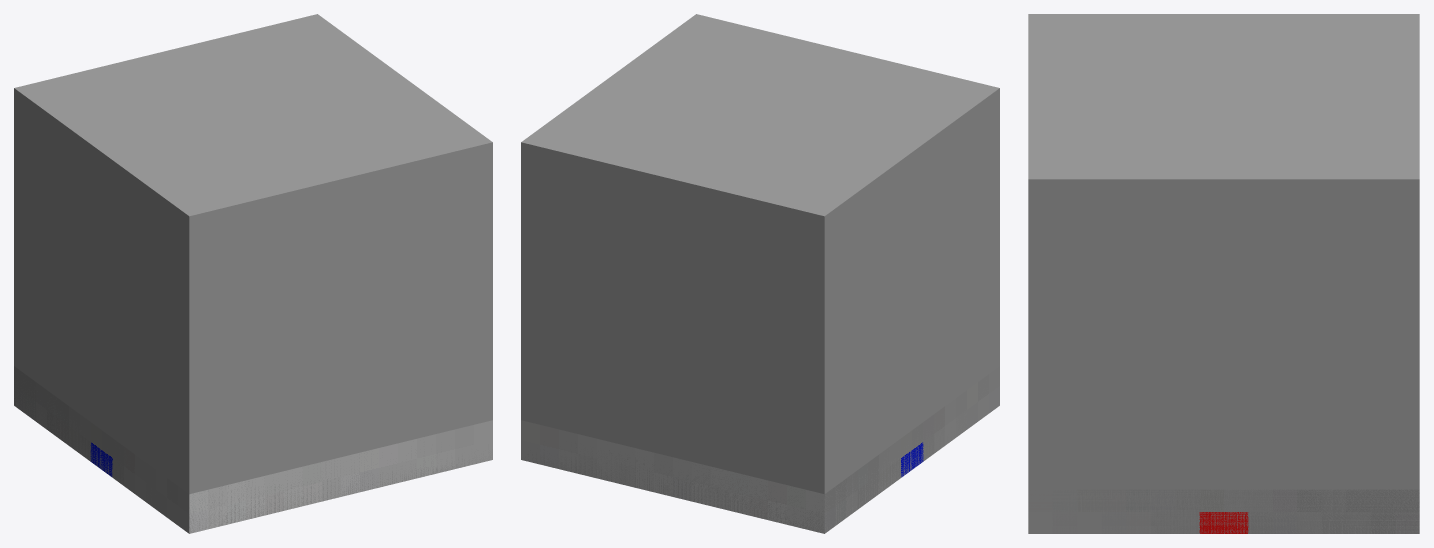
The model's file is smallsolarpannel.obj.
3 views of the same model, side by side, from view 1: azimuth 30°, elevation 25°; view 2: azimuth 150°, elevation 25°; view 3: azimuth 270°, elevation 25° (orthographic). The views are drawn at different scales.
Visible parts, largest first — view 1: Minecraft_Block_Cube, main; view 2: Minecraft_Block_Cube, main; view 3: Minecraft_Block_Cube, main.
Part boxes in pixels (bbox=[...]): Minecraft_Block_Cube: bbox=[14, 14, 492, 533]; main: bbox=[14, 366, 492, 533]; Minecraft_Block_Cube: bbox=[521, 14, 999, 533]; main: bbox=[521, 366, 999, 533]; Minecraft_Block_Cube: bbox=[1028, 14, 1419, 533]; main: bbox=[1028, 489, 1419, 533].
Bounding box in the file's own units: 1 × 1 × 1.
2 materials, 1 textured.
